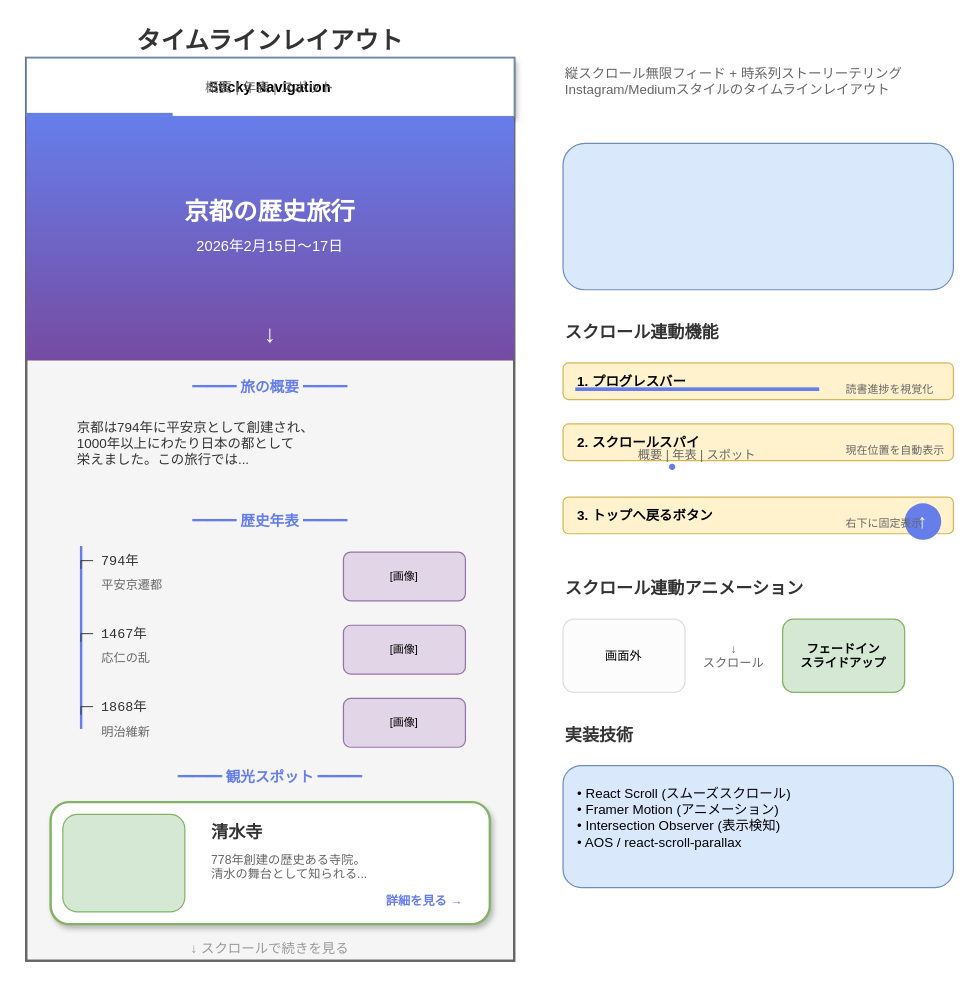
The diagram is 975 pixels wide and 982 high, and some of its shapes have lost their labels. The centre of each missing label's shape, as x and y in pixels:
"[Large Image]" belongs at (x=123, y=862).
"✓ 実装難易度: 低〜中 ✓ モバイル対応: 優 ✓ 没入感: 中〜高 ✓ 開発期間: 中 ✓ 適用場面: コンテンツ量多、時系列重視" belongs at (x=757, y=216).
